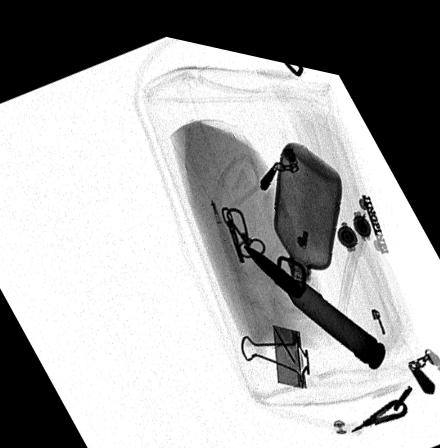Bullet: (240, 229, 387, 352)
